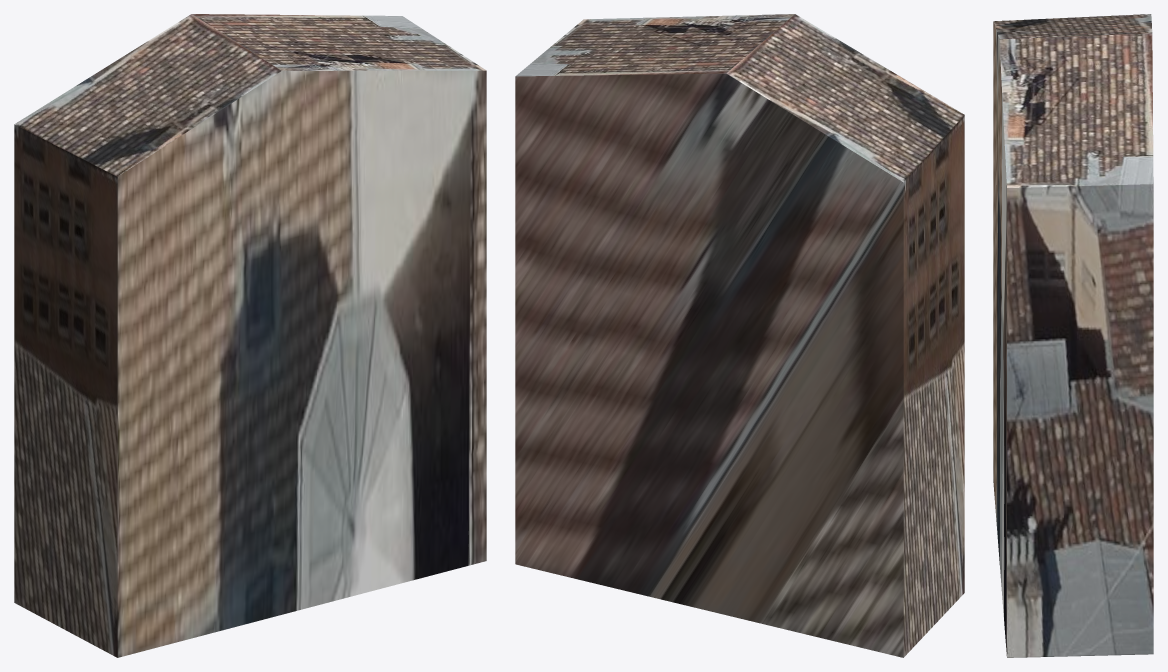
3 renders of one model, left to right at view 1: azimuth 30°, elevation 25°; view 2: azimuth 150°, elevation 25°; view 3: azimuth 270°, elevation 25°, orthographic. The views are drawn at different scales.
Visible parts, largest first — view 1: Z_UP; view 2: Z_UP; view 3: Z_UP.
Part boxes in pixels (left/top/right/bottom): Z_UP: left=14, top=14, right=486, bottom=657; Z_UP: left=515, top=14, right=964, bottom=657; Z_UP: left=993, top=14, right=1153, bottom=657.
Size of the model in its own units: 14.44 by 18.93 by 5.26.
Materials: 2 (1 with a texture image).
